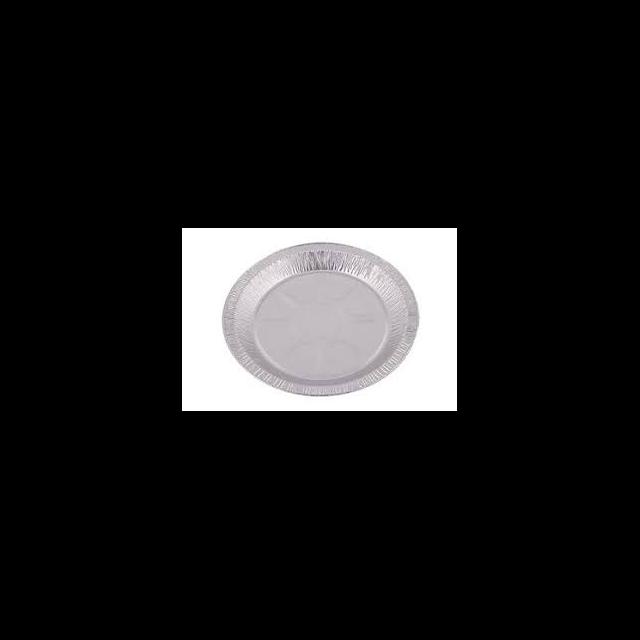metal: (220, 240, 418, 396)
